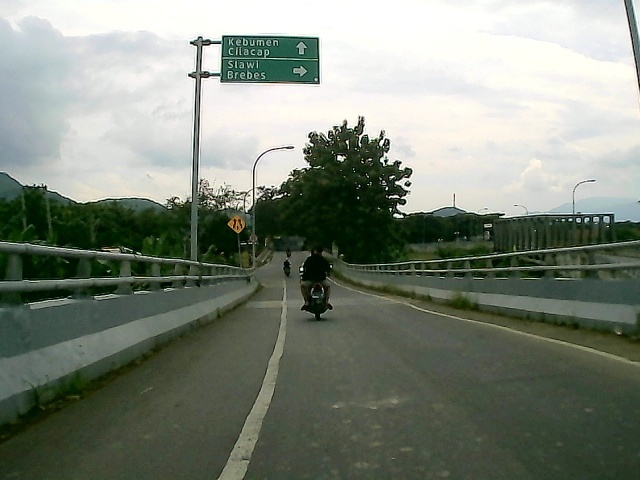Akhir bangunan pemisah satu arah: (226, 213, 249, 235)
